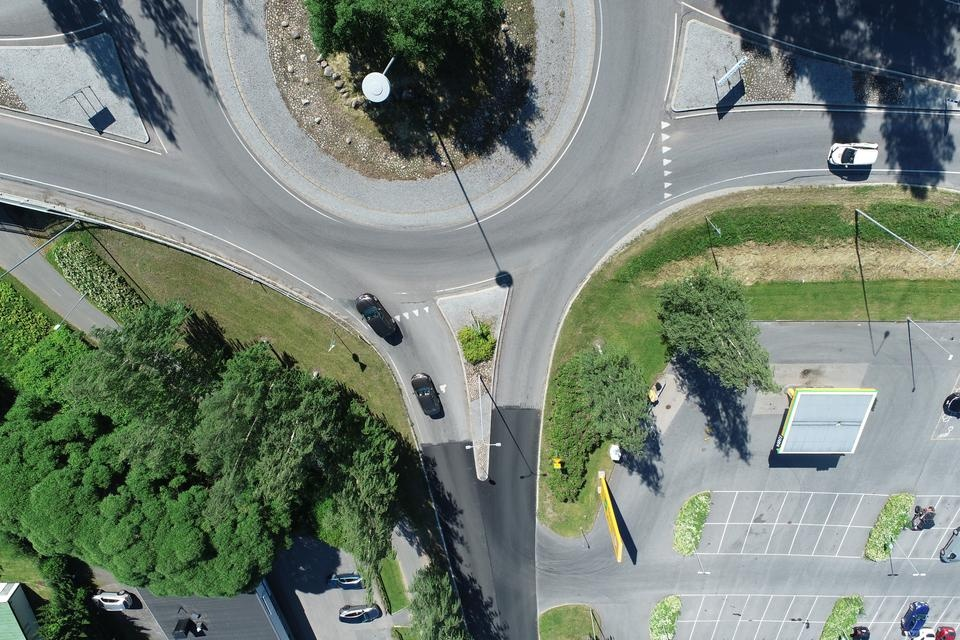roundabout: (94, 0, 770, 354)
